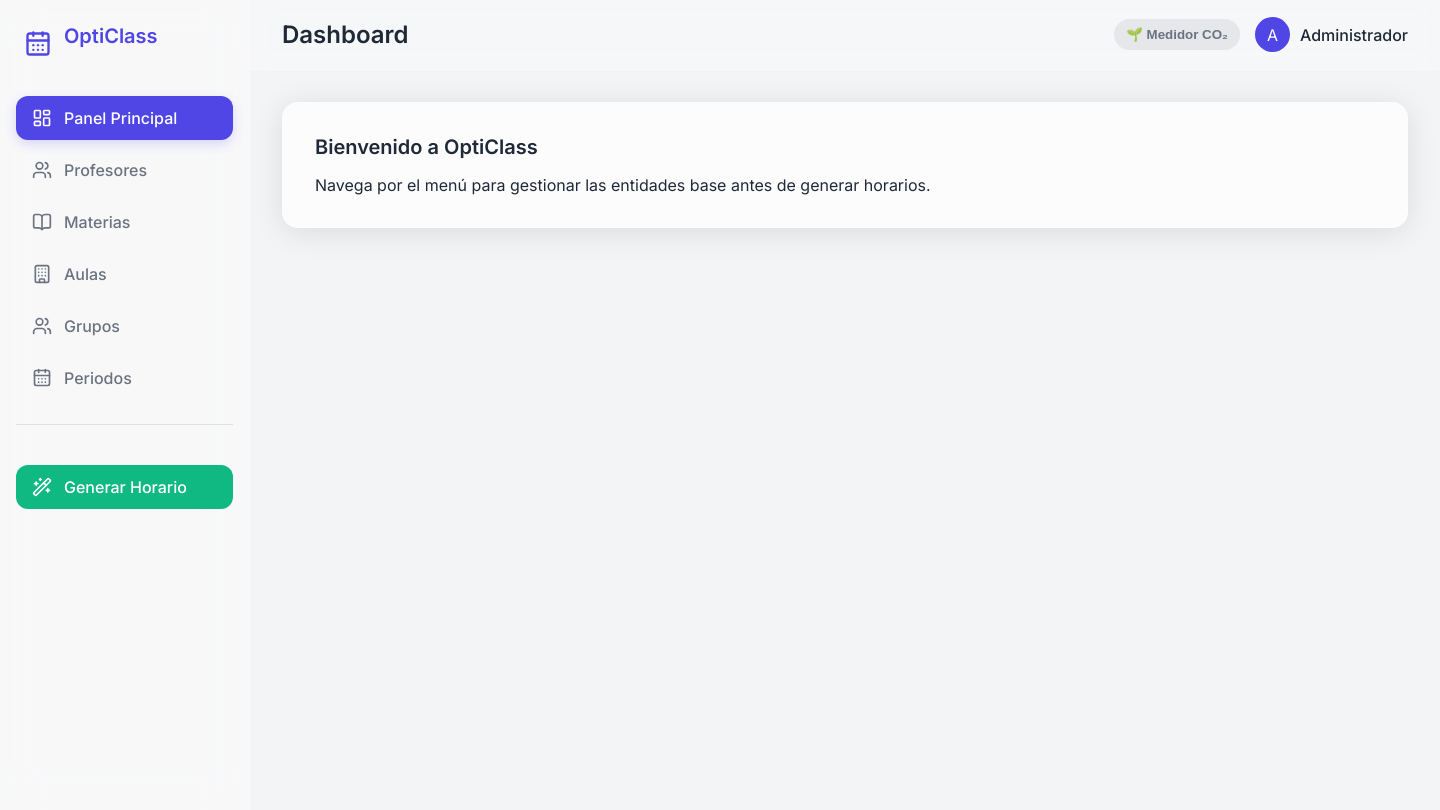
Scenario: App › navega a Materias al hacer click en el sidebar
This screenshot has width=1440, height=810.
Click the list item "Materias". click: click(81, 222)
box: [32,212,130,232]
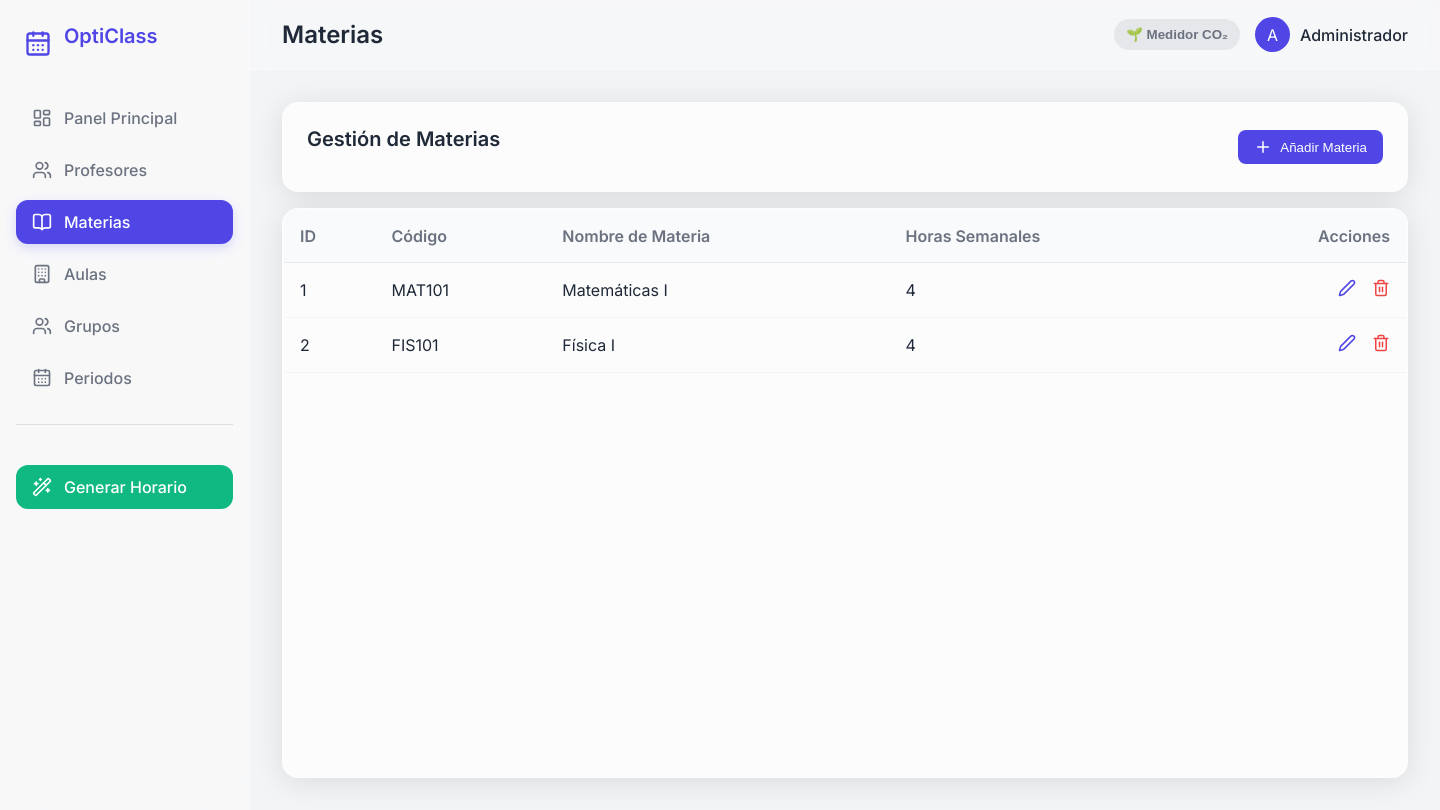
Result: the heading "Gestión de Materias" is shown at [307,127,500,151]
